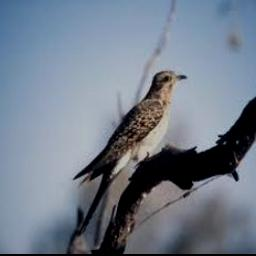Cuckoo: (73, 70, 186, 235)
